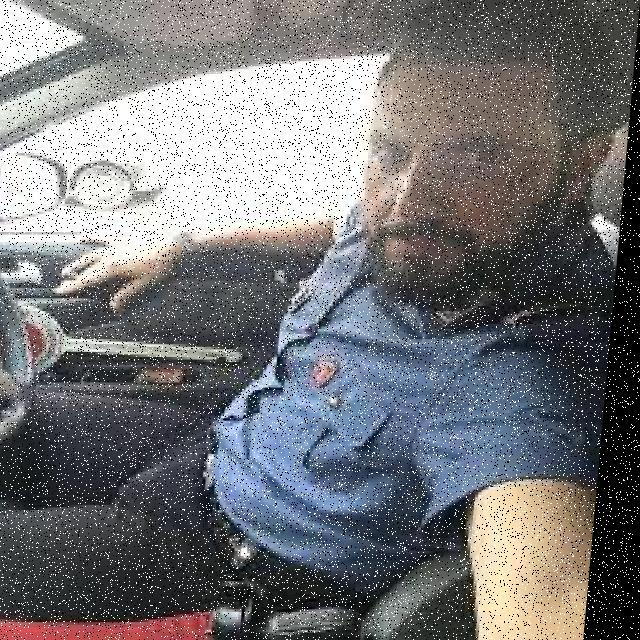noSeatbelt: (145, 206, 618, 624)
